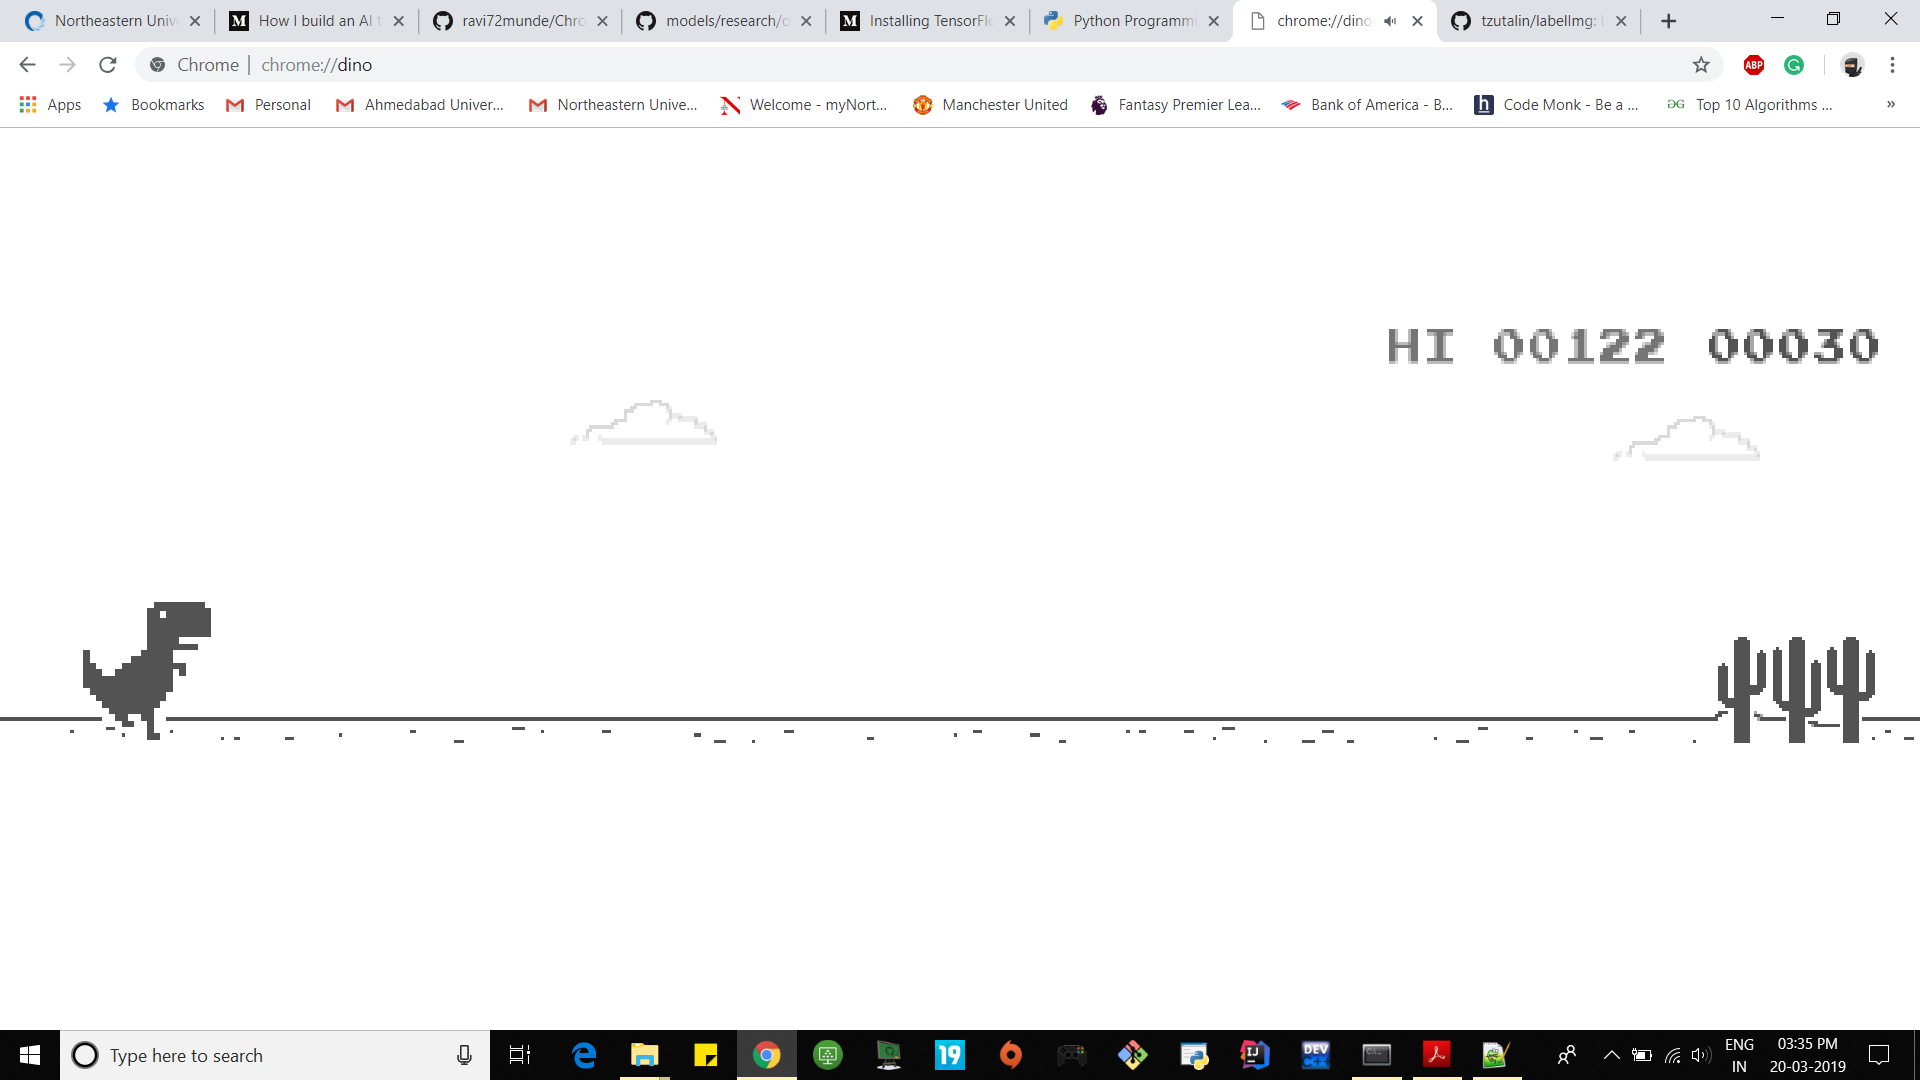cactus-3: (1706, 629, 1878, 745)
dino: (78, 596, 218, 740)
